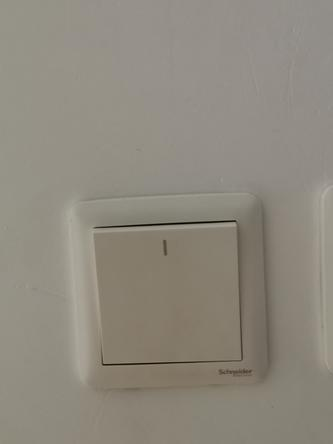switch: (71, 216, 252, 374)
